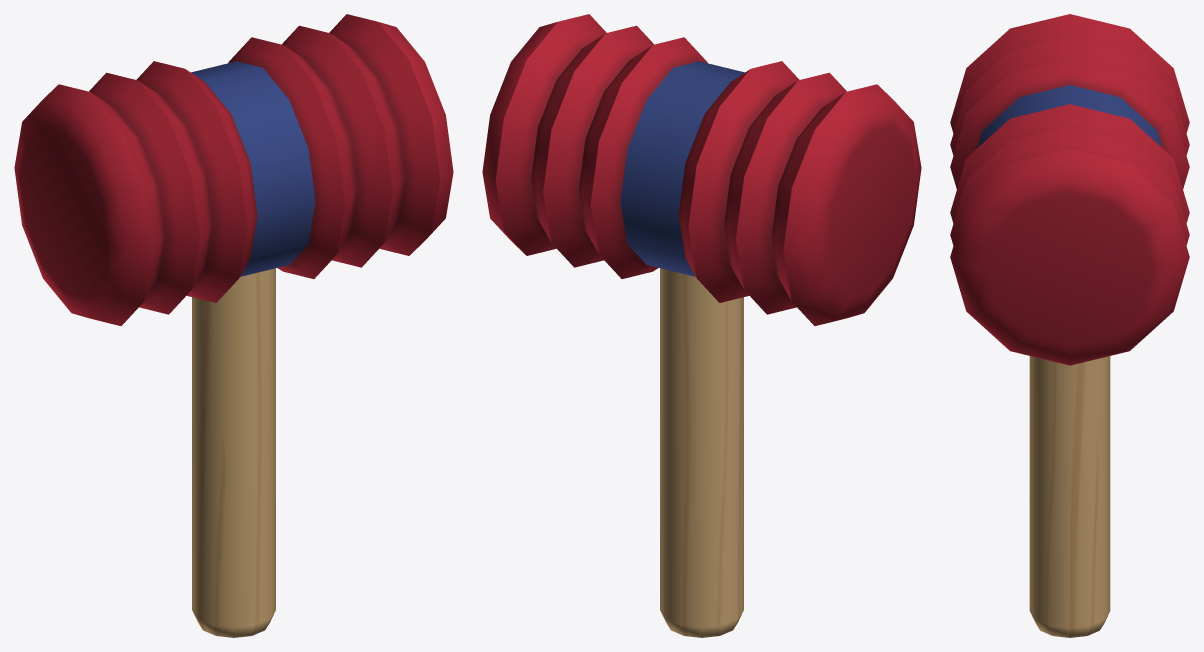
File: Hammer_fbx.fbx
The picture shows the model from 3 angles, left to right: view 1: azimuth 30°, elevation 25°; view 2: azimuth 150°, elevation 25°; view 3: azimuth 270°, elevation 25°; orthographic projection. The views are drawn at different scales.
Visible parts, largest first — view 1: Hammer; view 2: Hammer; view 3: Hammer.
Part boxes in pixels (box(x1,y1,x2,y2)): Hammer: box(14, 14, 453, 637); Hammer: box(482, 14, 921, 637); Hammer: box(950, 14, 1189, 637).
Bounding box in the file's own units: 4.16 × 6.67 × 2.64.
